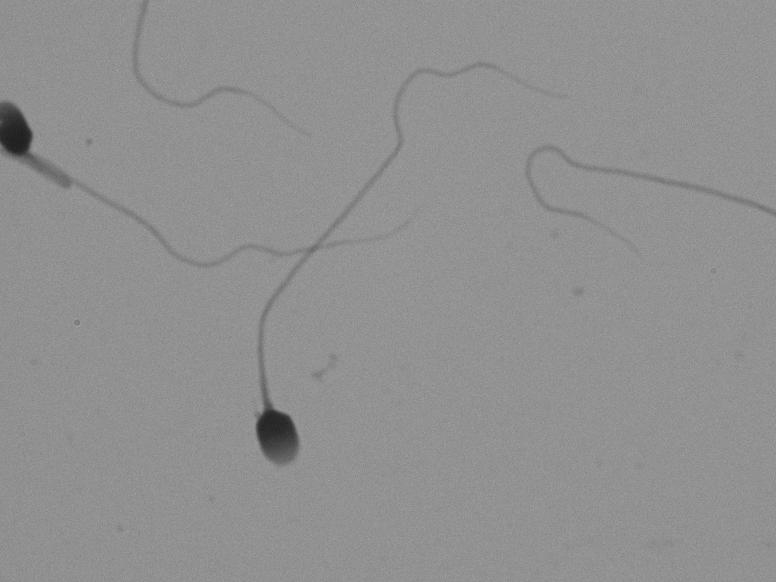Normal: (226, 36, 585, 503)
